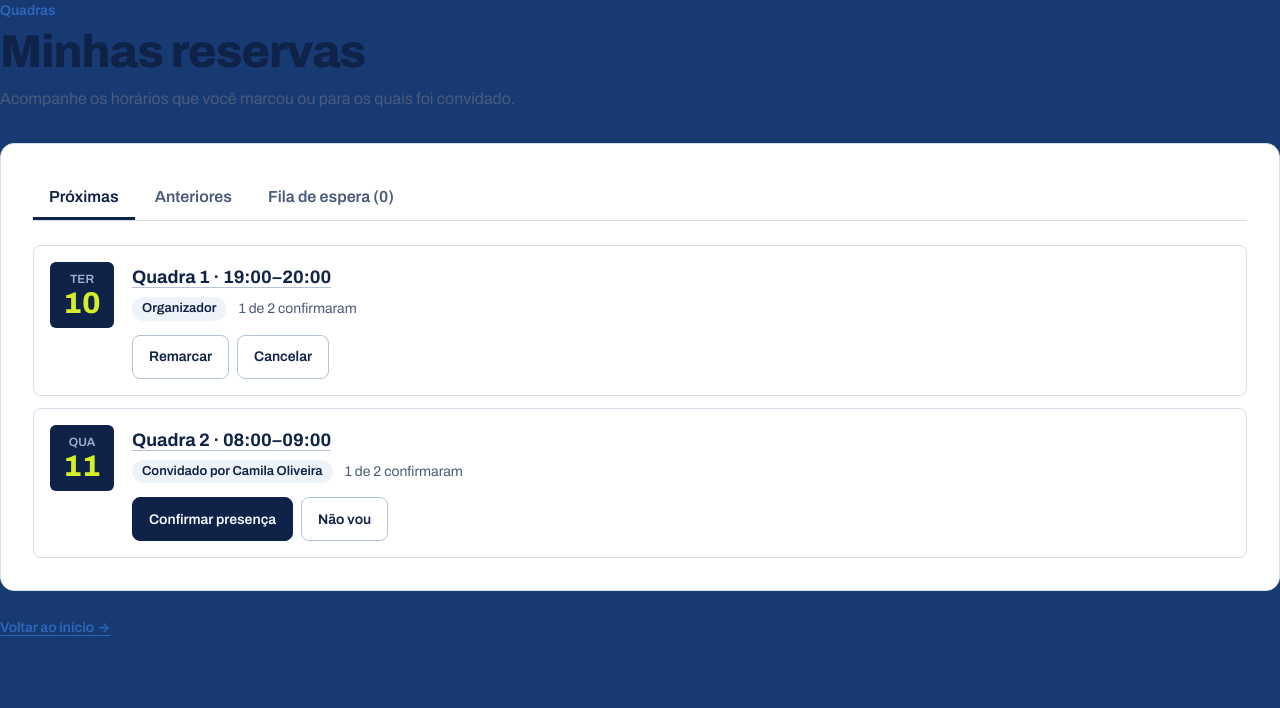
it: BookingsPage cancelamento › confirmar tira o card de Próximas, avisa e move para Anteriores como Cancelada
Click the button with aria-label "Cancelar reserva da Quadra 1 em ter., 10 de nov. 19:00" at (283, 357), box [237,335,329,379]
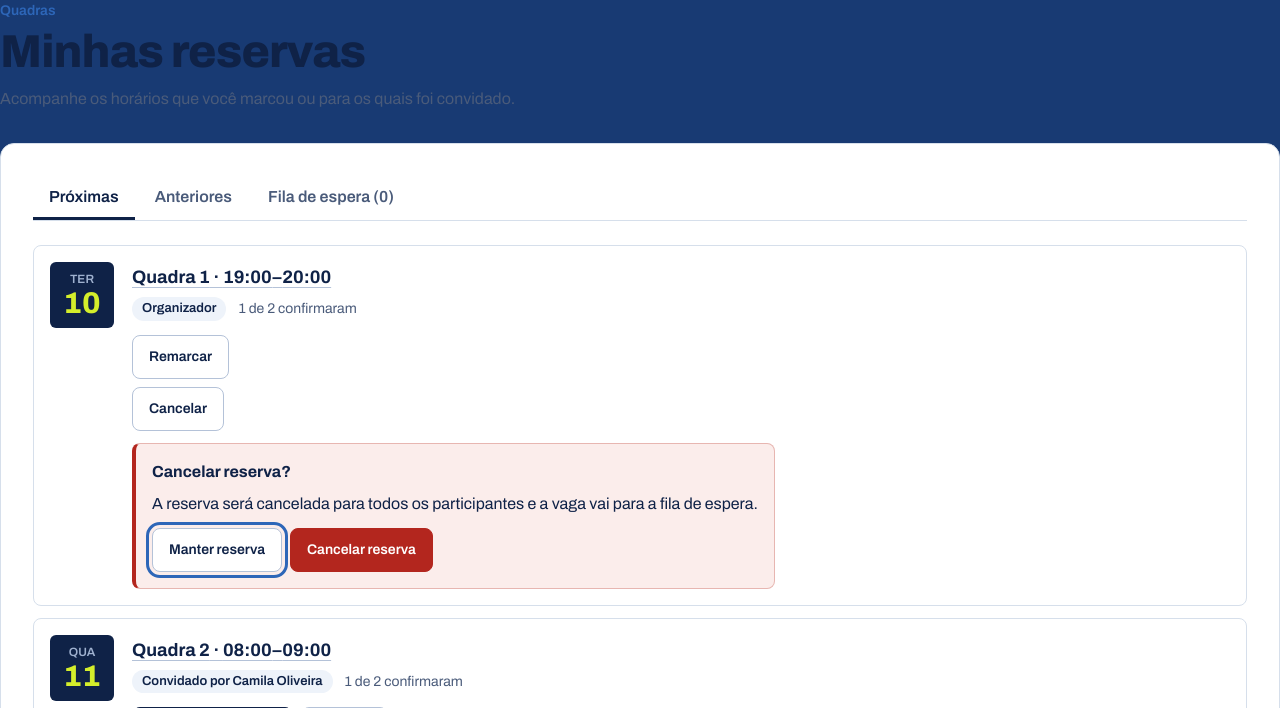
Click the button "Cancelar reserva" at (361, 550), box [290,528,433,572]
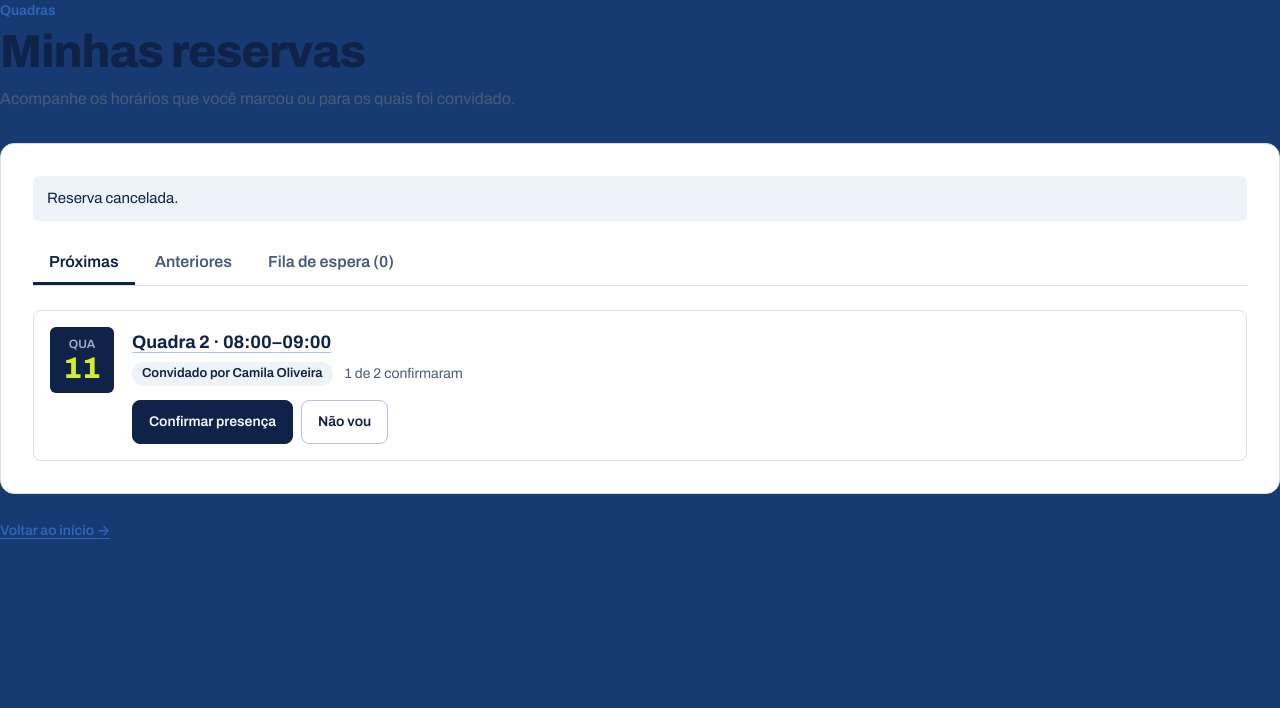
Now the link "Quadra 1 · 19:00–20:00" is gone
Now the dialog is gone
Click the tab "Anteriores" at (193, 263), box [139,241,248,285]
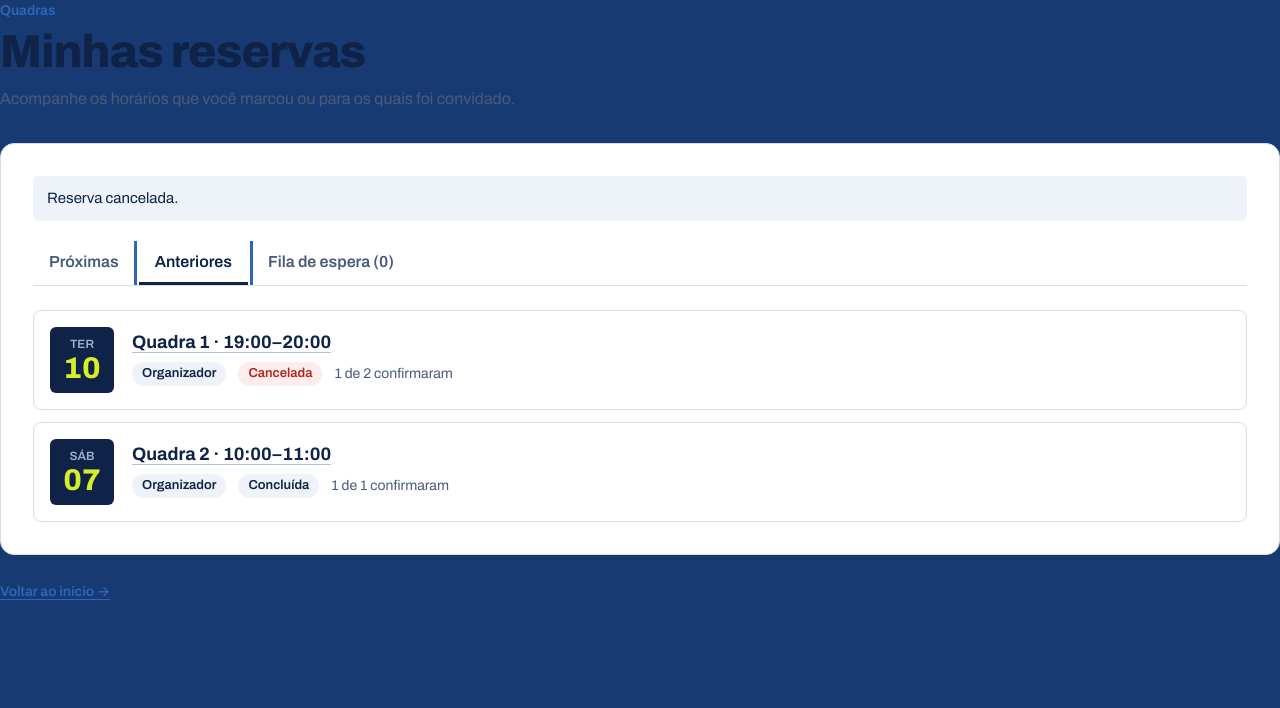
Now the text "Cancelada" is shown, box [238,362,322,386]
